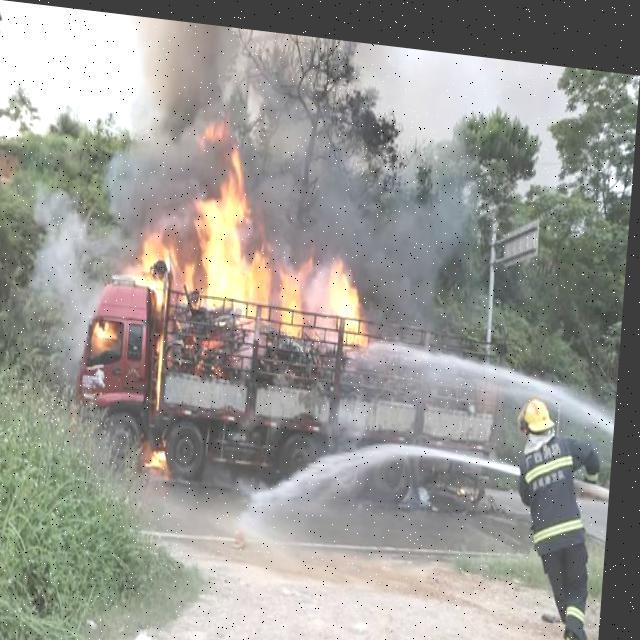Fire: (86, 124, 382, 394), (148, 431, 178, 474)
